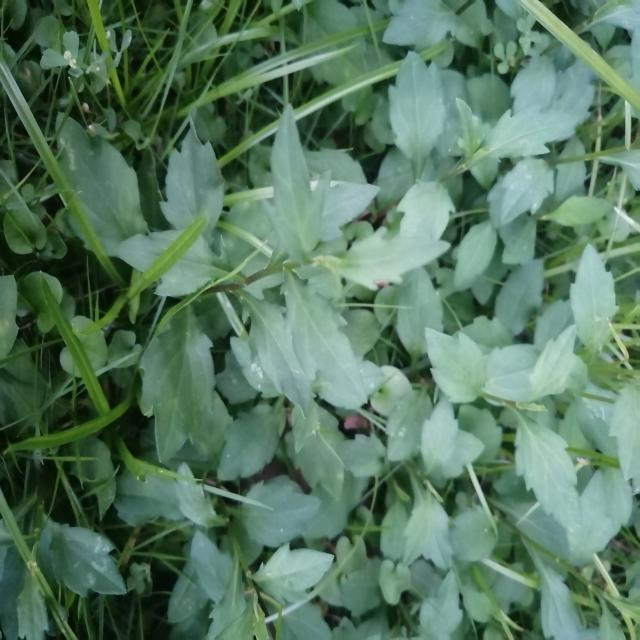Indian aster: (172, 149, 393, 464), (408, 292, 582, 543)
